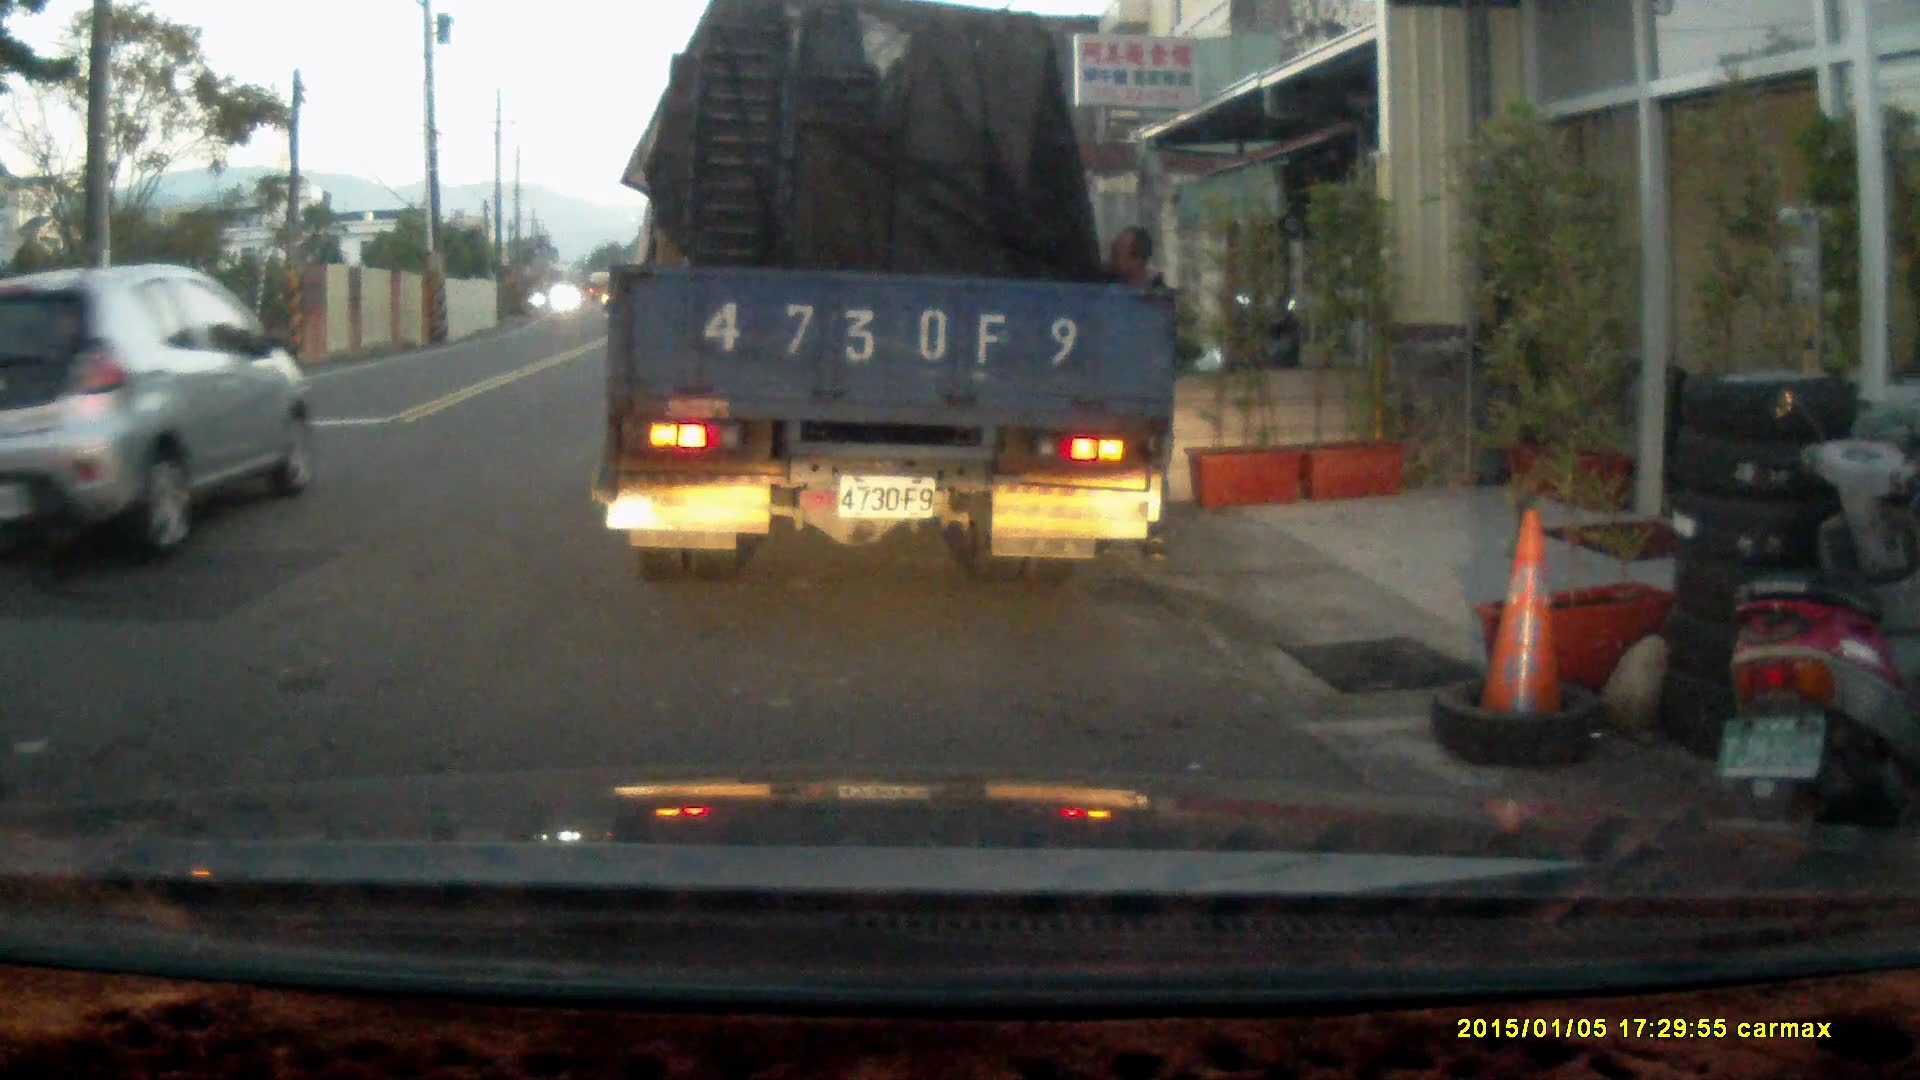pedestrian: (1084, 224, 1185, 567)
vehicle: (601, 23, 1185, 572), (3, 263, 316, 551)
